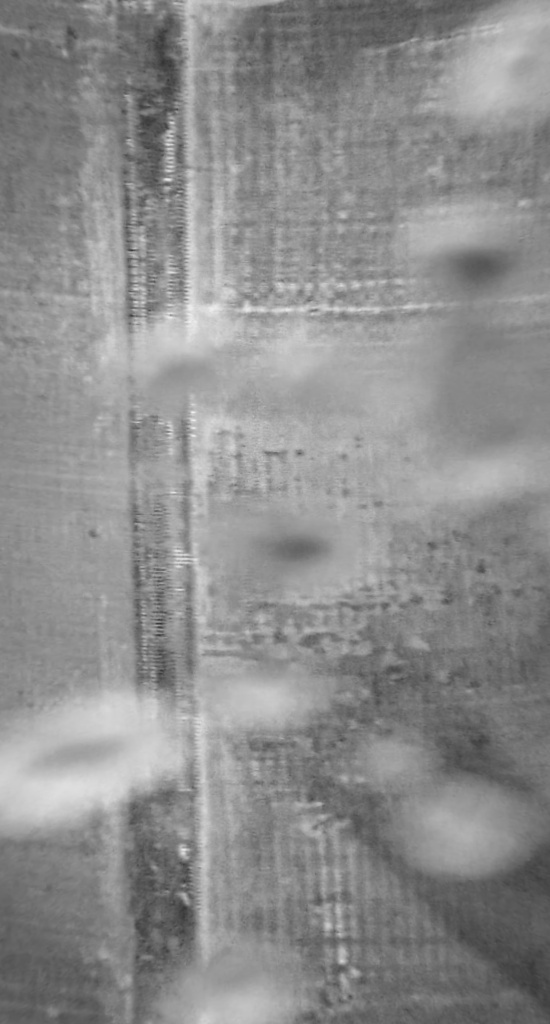splice: (110, 1, 207, 1024)
